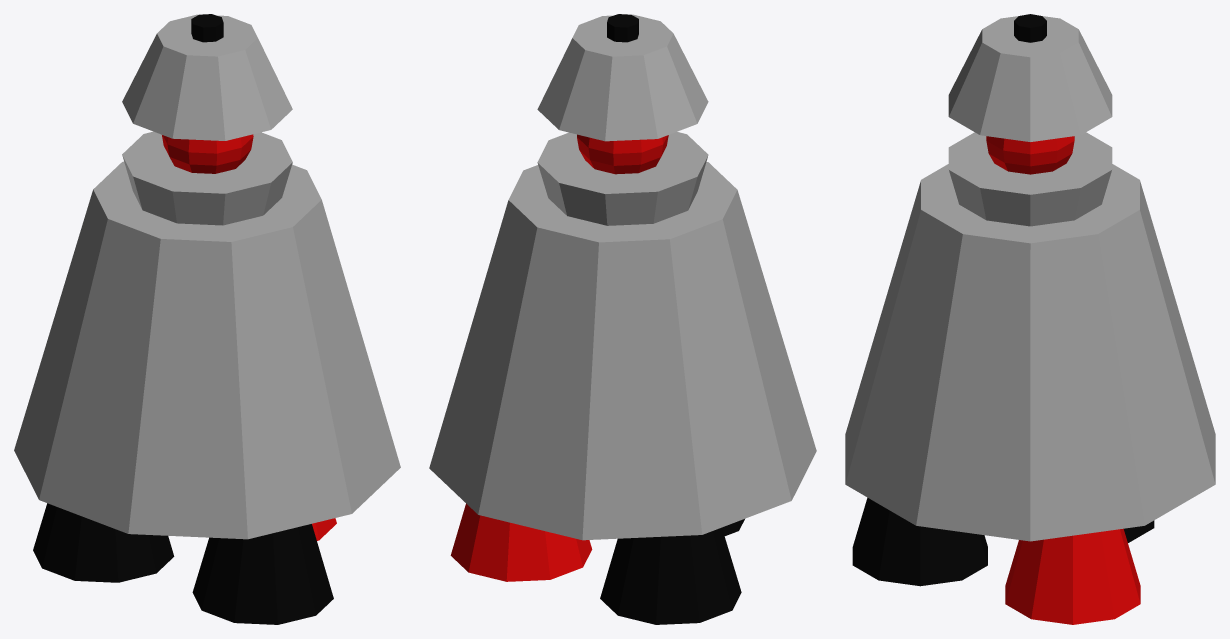
The model's file is bullet.fbx.
3 renders of one model, left to right at view 1: azimuth 30°, elevation 25°; view 2: azimuth 150°, elevation 25°; view 3: azimuth 270°, elevation 25°, orthographic.
Parts seen in each view (by area): view 1: pCylinder1, pCylinder12, pCylinder9, pCylinder11, pCylinder8, pSphere1, pCylinder13; view 2: pCylinder1, pCylinder12, pCylinder8, pCylinder11, pCylinder10, pSphere1, pCylinder13; view 3: pCylinder1, pCylinder12, pCylinder10, pCylinder11, pCylinder9, pSphere1, pCylinder13.
Part boxes in pixels (left/top/right/bottom): pCylinder1: left=14, top=161, right=400, bottom=539; pCylinder12: left=122, top=14, right=292, bottom=140; pCylinder9: left=192, top=524, right=333, bottom=624; pCylinder11: left=122, top=131, right=292, bottom=225; pCylinder8: left=33, top=503, right=174, bottom=582; pSphere1: left=162, top=134, right=253, bottom=173; pCylinder13: left=191, top=14, right=223, bottom=42; pCylinder1: left=429, top=162, right=816, bottom=540; pCylinder12: left=537, top=14, right=708, bottom=141; pCylinder8: left=600, top=527, right=741, bottom=624; pCylinder11: left=537, top=132, right=708, bottom=225; pCylinder10: left=450, top=503, right=592, bottom=581; pSphere1: left=577, top=134, right=668, bottom=174; pCylinder13: left=607, top=14, right=638, bottom=42; pCylinder1: left=845, top=164, right=1215, bottom=541; pCylinder12: left=948, top=16, right=1112, bottom=141; pCylinder10: left=1005, top=528, right=1140, bottom=624; pCylinder11: left=948, top=132, right=1112, bottom=226; pCylinder9: left=852, top=497, right=987, bottom=586; pSphere1: left=986, top=136, right=1074, bottom=174; pCylinder13: left=1014, top=14, right=1046, bottom=42.
Size of the model in its own units: 2 by 3.03 by 1.9.
